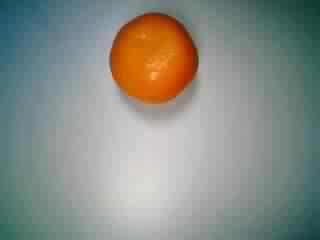orange: (103, 9, 201, 108)
